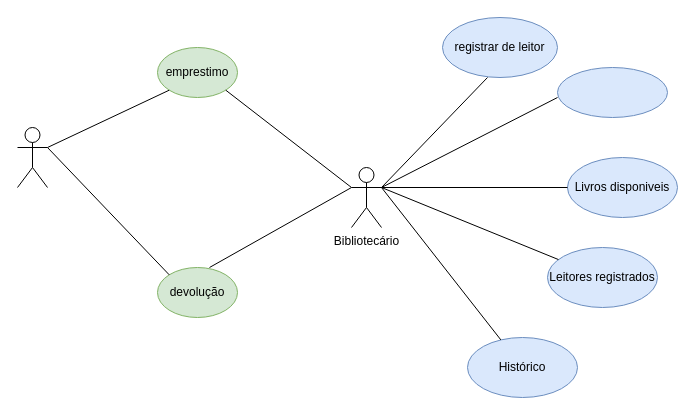
The diagram is 695 pixels wide and 415 high, and some of its shapes have lost their labels. The shapes that lost their labels are listed below. From the top down, each one's centre as x and y in pixels, then its label:
At point (612, 92): "Livros emprestados".
At point (32, 157): "leitor".
